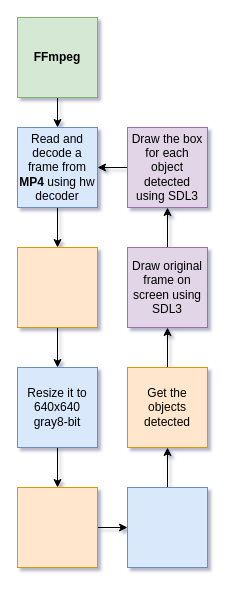
This 231x591 diagram has some shape labels left out. The shapes that lost their labels are listed below. From the top down, each one's centre as x and y in pixels, then its label:
At point 57,287: "Get YU12 / NV12 decoded frame".
At point 57,527: "Apply filters to create a 4-D image suitable as input for a deep neural network".
At point 167,527: "Send it to NPU".
